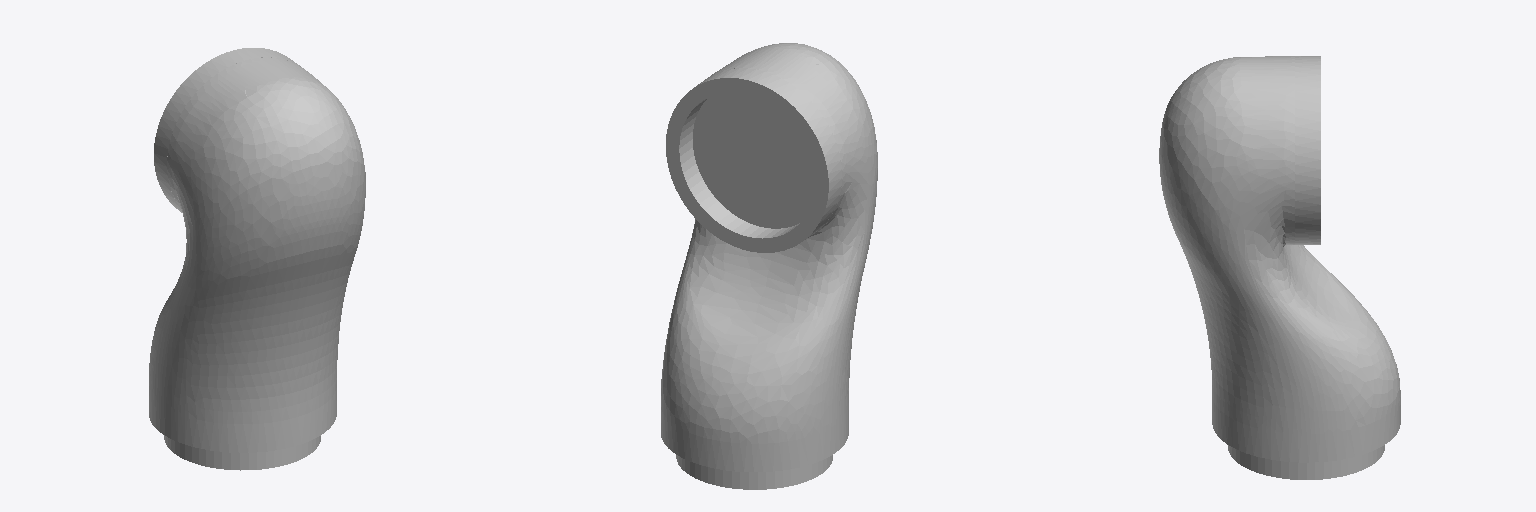
The model's file is kuka-link1.obj.
The picture shows the model from 3 angles: view 1: azimuth 30°, elevation 25°; view 2: azimuth 150°, elevation 25°; view 3: azimuth 270°, elevation 25°; orthographic projection.
Parts seen in each view (by area): view 1: object; view 2: object; view 3: object.
Boxes of the visible parts, x1,y1,x2,y2 form: object: [149, 48, 365, 470]; object: [661, 43, 877, 489]; object: [1159, 56, 1400, 479].
Bounding box in the file's own units: 120 × 268 × 154.